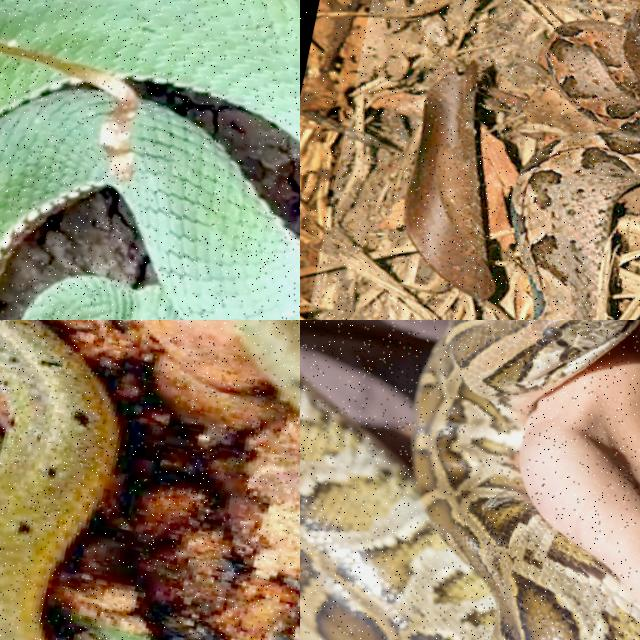Calliophis maculiceps: (0, 320, 118, 639)
Calloselasma rhodostoma: (512, 8, 639, 319)
Python bivittatus: (300, 320, 639, 639)
Trimeresurus: (0, 55, 299, 319)
